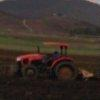Tractor: (14, 37, 89, 86)
